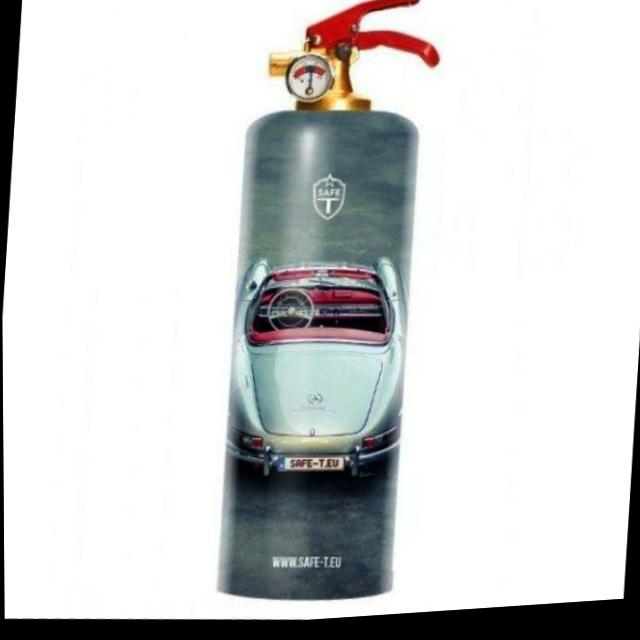FireExtinguisher: (202, 0, 451, 624)
